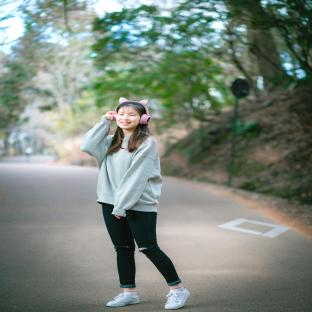Human: (80, 100, 190, 310)
